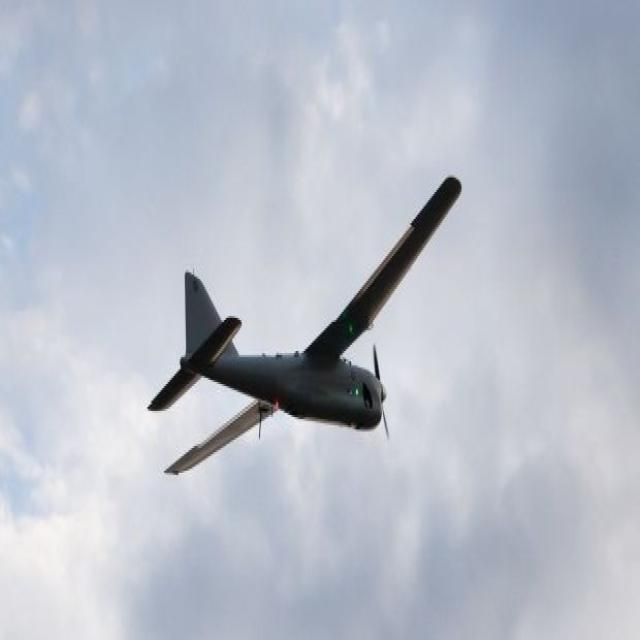iha: (146, 171, 464, 480)
